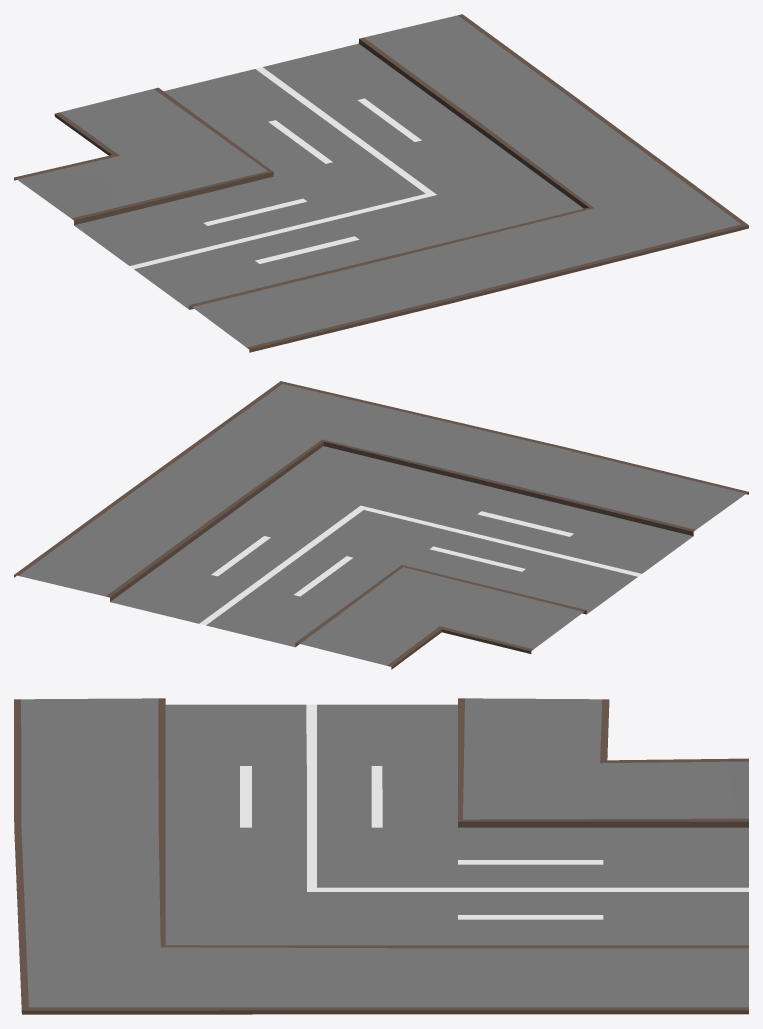
File: SM_Road_P62.fbx
The picture shows the model from 3 angles, top to bottom: view 1: azimuth 30°, elevation 25°; view 2: azimuth 150°, elevation 25°; view 3: azimuth 270°, elevation 25°; orthographic projection. The views are drawn at different scales.
Parts seen in each view (by area): view 1: SM_Road_P62; view 2: SM_Road_P62; view 3: SM_Road_P62.
Part boxes in pixels (x1,y1,x2,y2): SM_Road_P62: [14, 14, 748, 352]; SM_Road_P62: [14, 381, 748, 669]; SM_Road_P62: [14, 698, 748, 1014].
Bounding box in the file's own units: 3070 × 28.46 × 3065.
